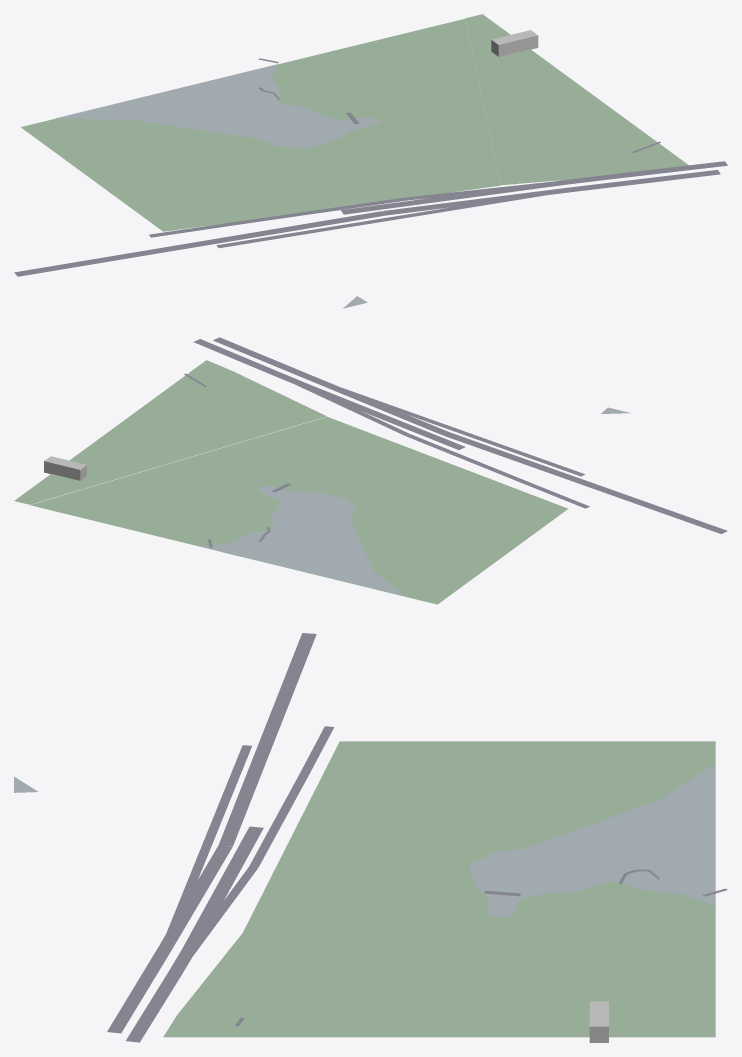
File: 135_81_mid.glb
3 renders of one model, top to bottom at view 1: azimuth 30°, elevation 25°; view 2: azimuth 150°, elevation 25°; view 3: azimuth 270°, elevation 25°, orthographic. The views are drawn at different scales.
Bounding box in the file's own units: 698 × 12.9 × 509.
